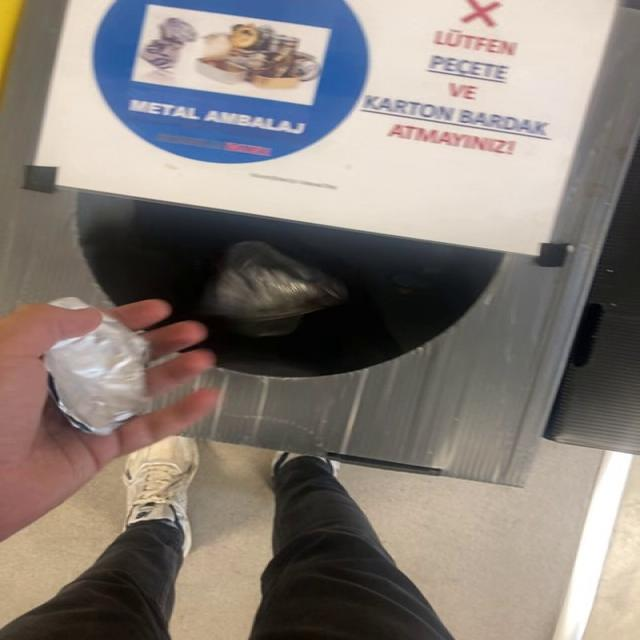metal: (201, 242, 348, 338)
